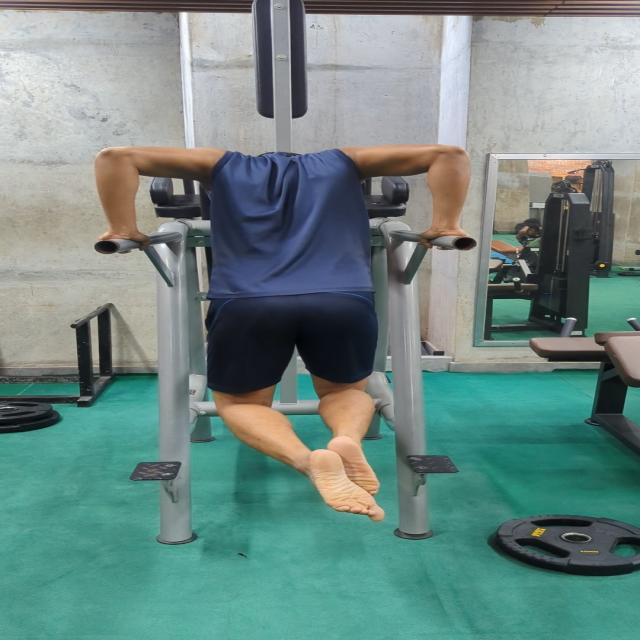Normal_Dips: (89, 132, 492, 523)
